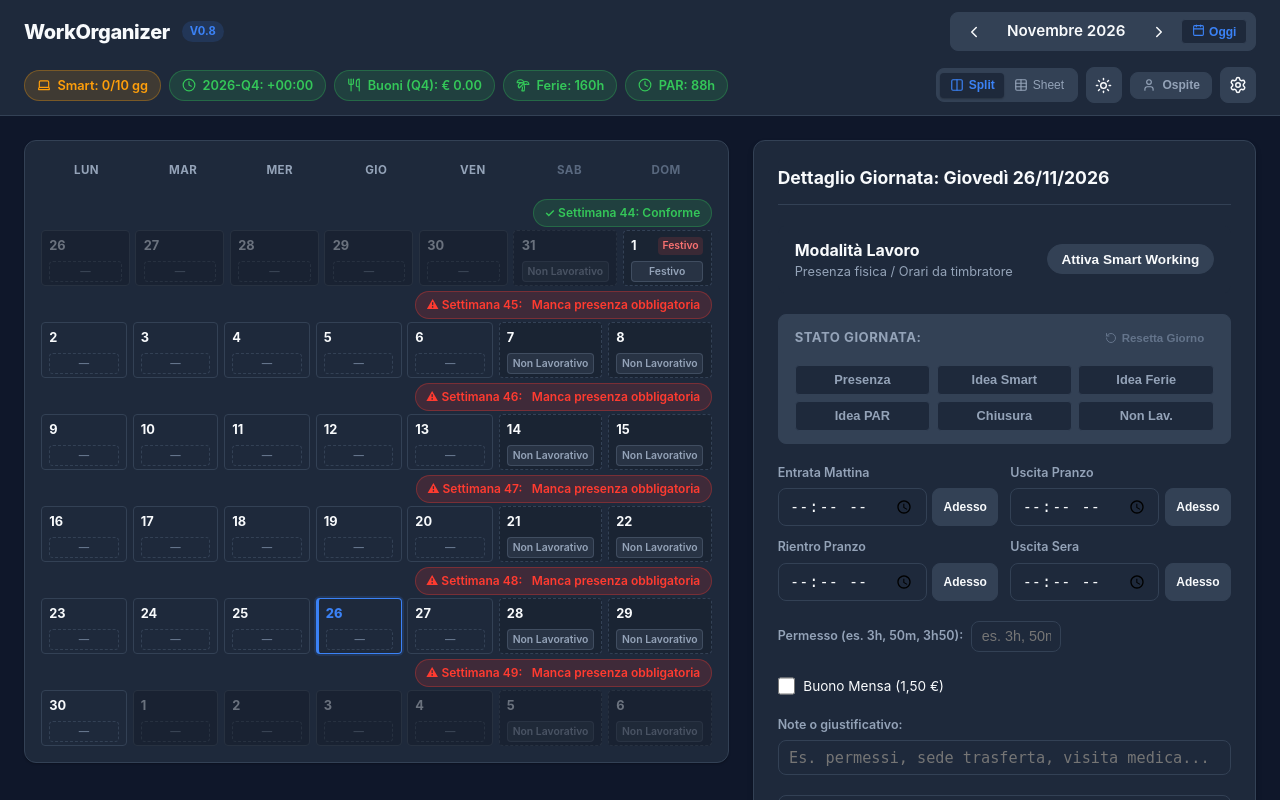
Test: App Full Integration › opens and closes settings modal via header button
The width and height of the screenshot is (1280, 800).
// Click settings in Header
Click the button with test id "btn-settings" at (1238, 85), box x1=1220 y1=67 x2=1256 y2=103
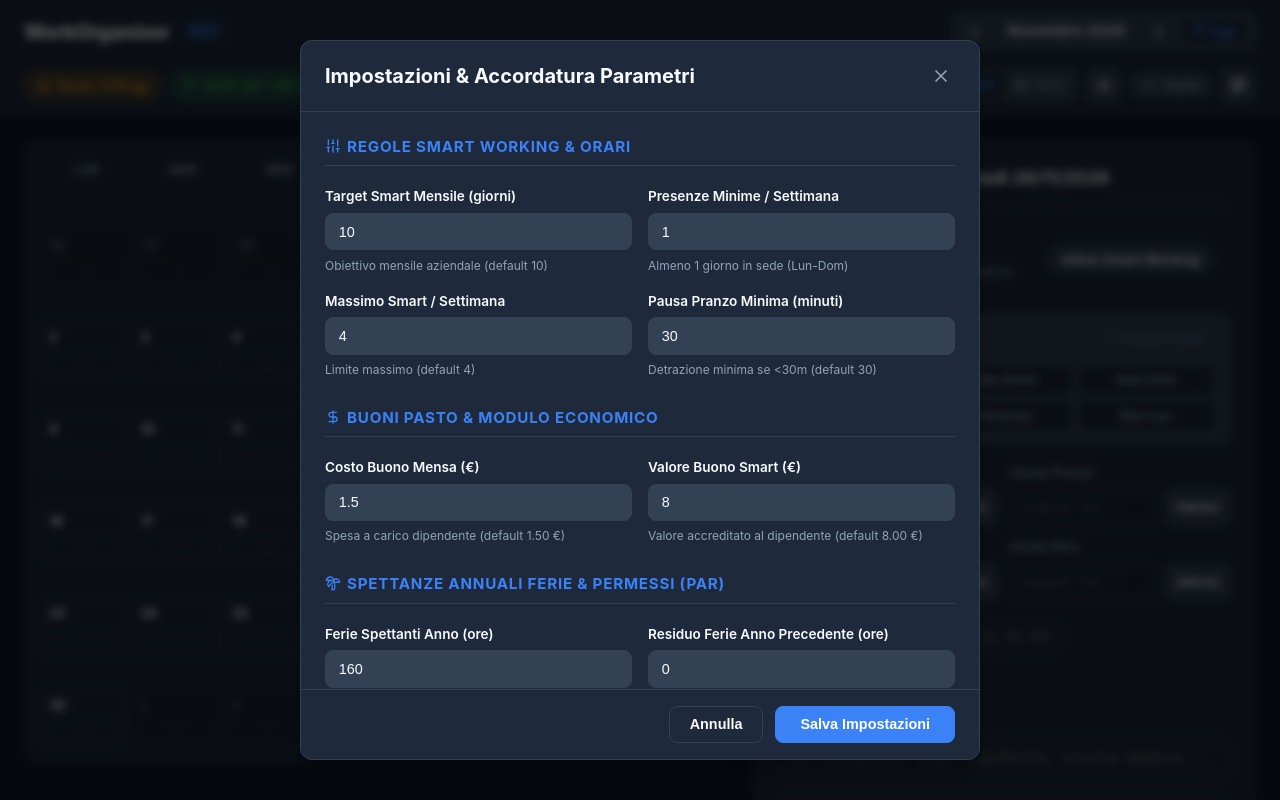
Check: the element with test id "settings-modal" is shown
// Close settings
Click the button with test id "btn-cancel-settings" at (716, 724), box x1=669 y1=706 x2=764 y2=743
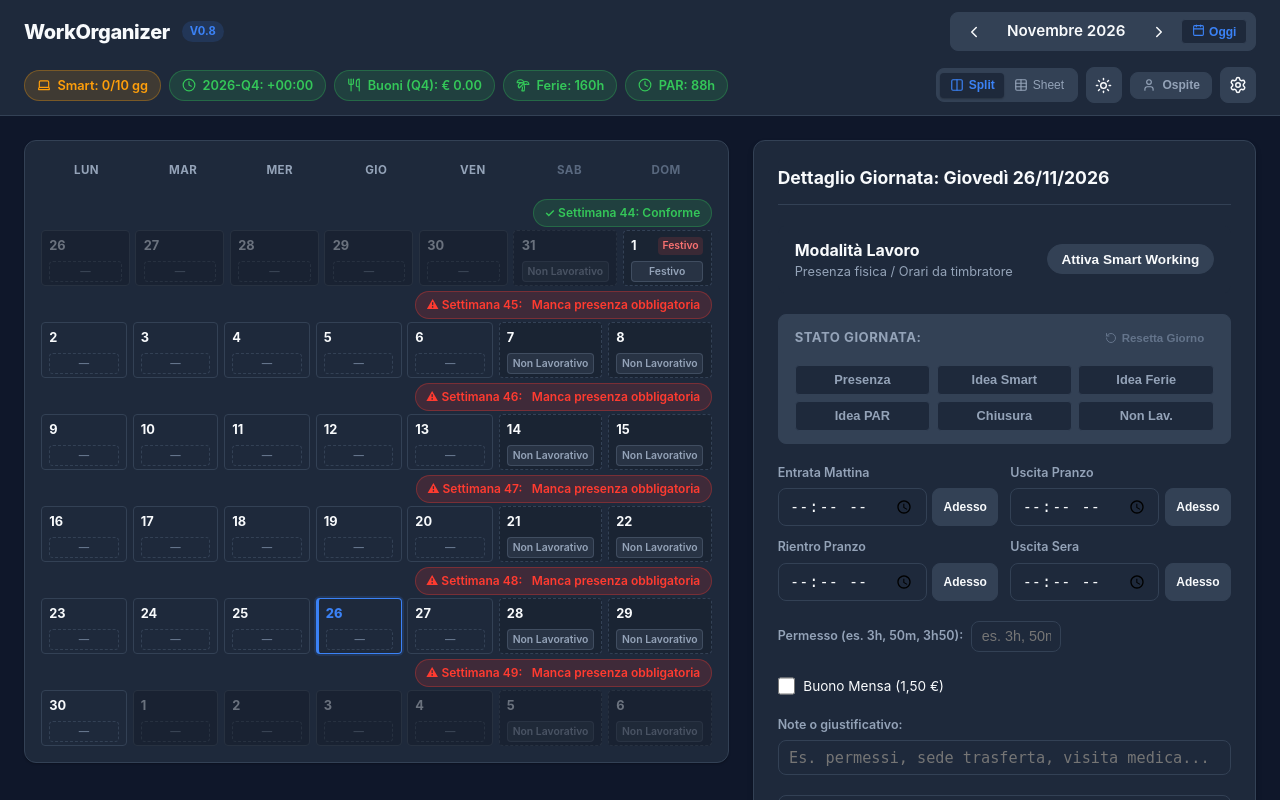
Check: the element with test id "settings-modal" is gone
